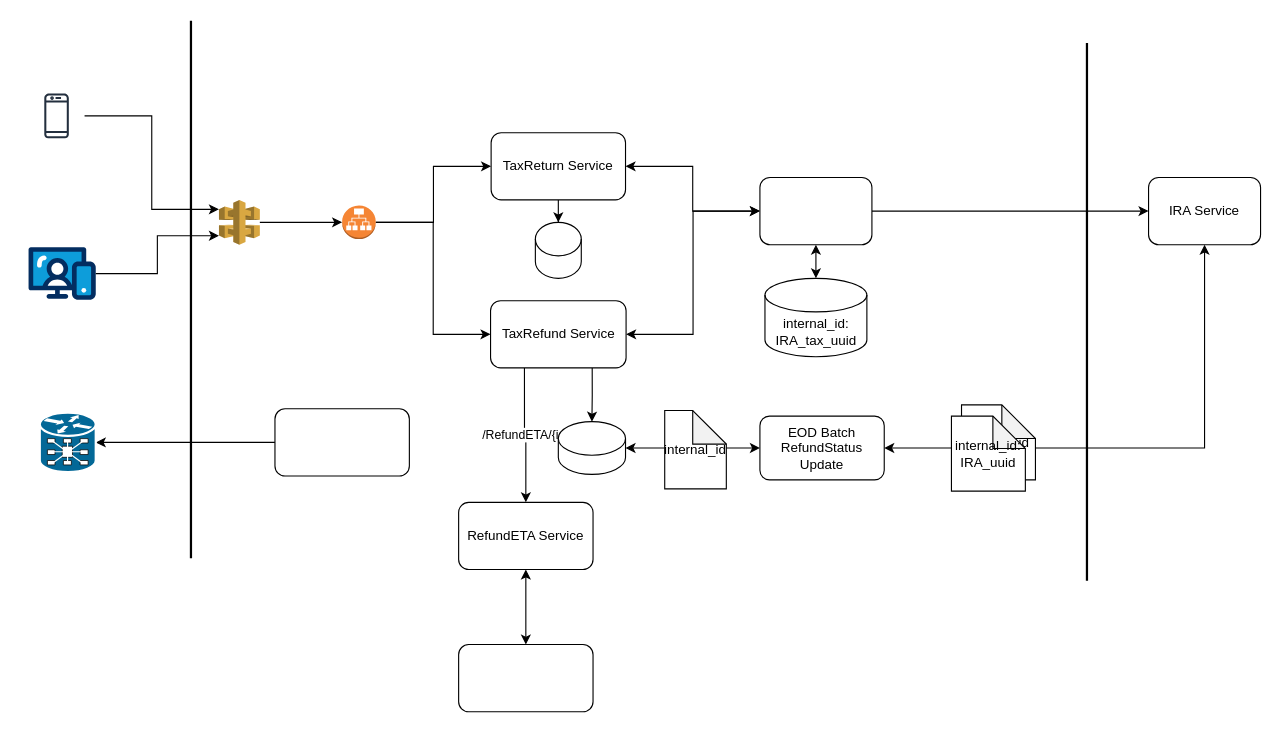
This 1280x731 diagram has some shape labels left out. Each missing label, with the box of its shape:
IRA Integration Service: (759, 176, 872, 245)
LLM Server: (458, 643, 593, 712)
Mobile client: (27, 87, 85, 144)
Notification Service: (274, 408, 409, 476)
